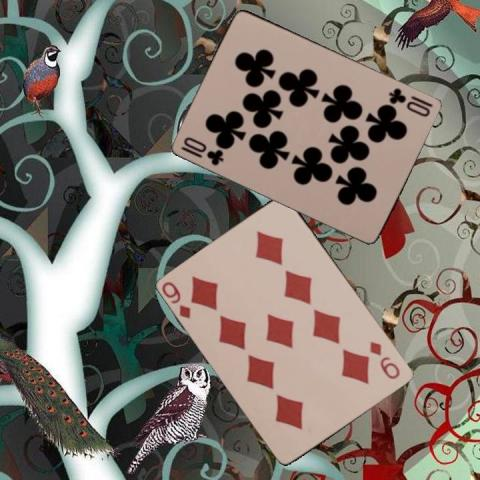10c: (178, 134, 226, 168), (386, 85, 435, 118)
9d: (367, 338, 402, 381), (158, 278, 192, 321)
